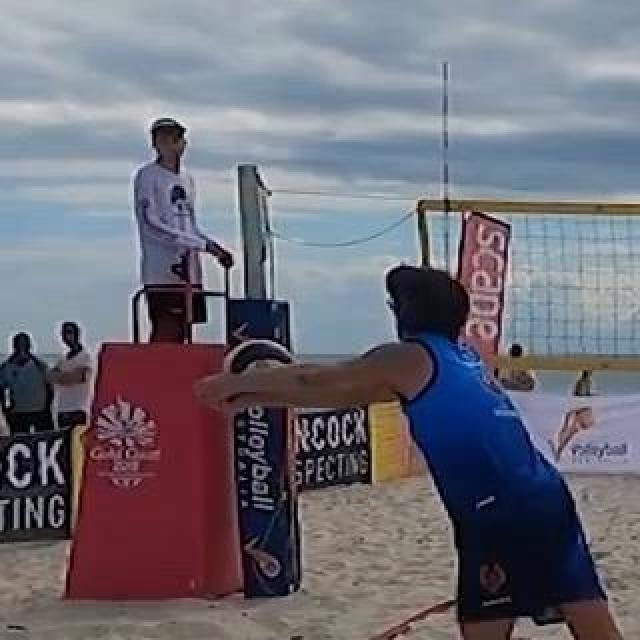volleyball: (223, 338, 297, 408)
